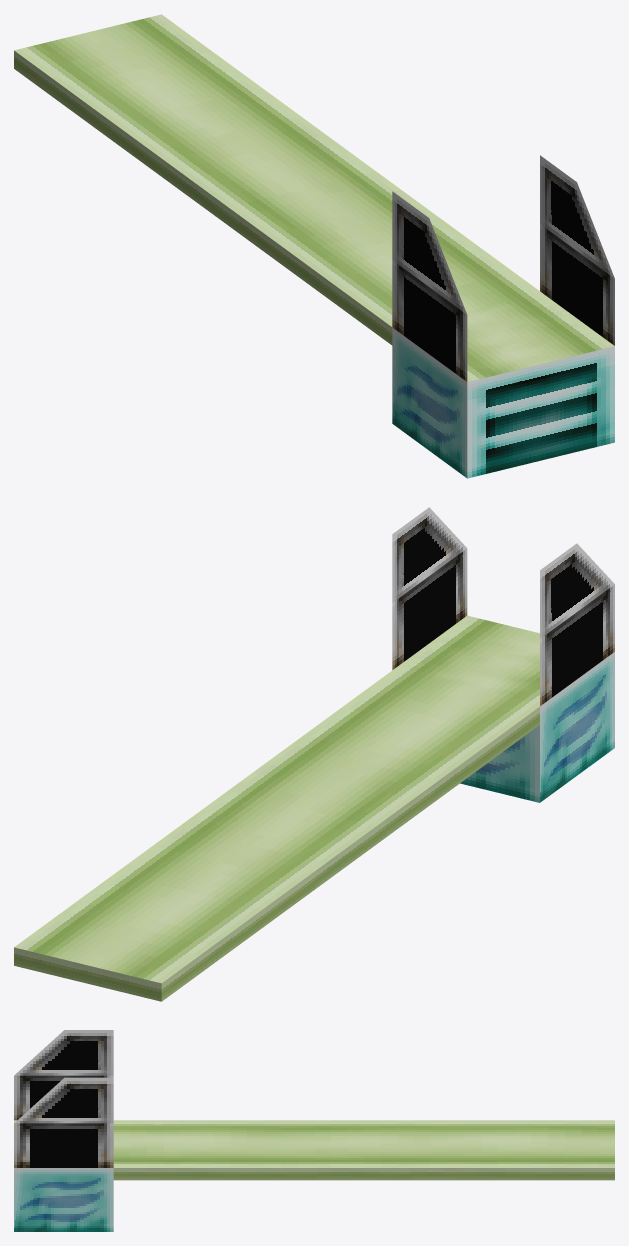
3 views of the same model, one above another, from view 1: azimuth 30°, elevation 25°; view 2: azimuth 150°, elevation 25°; view 3: azimuth 270°, elevation 25° (orthographic). The views are drawn at different scales.
Visible parts, largest first — view 1: prim204-diving board; view 2: prim204-diving board; view 3: prim204-diving board.
Part boxes in pixels (x1,y1,x2,y2): prim204-diving board: (14,14,614,478); prim204-diving board: (14,507,614,1001); prim204-diving board: (14,1030,614,1231).
Bounding box in the file's own units: 101 × 152 × 537.
1 material, 1 textured.
